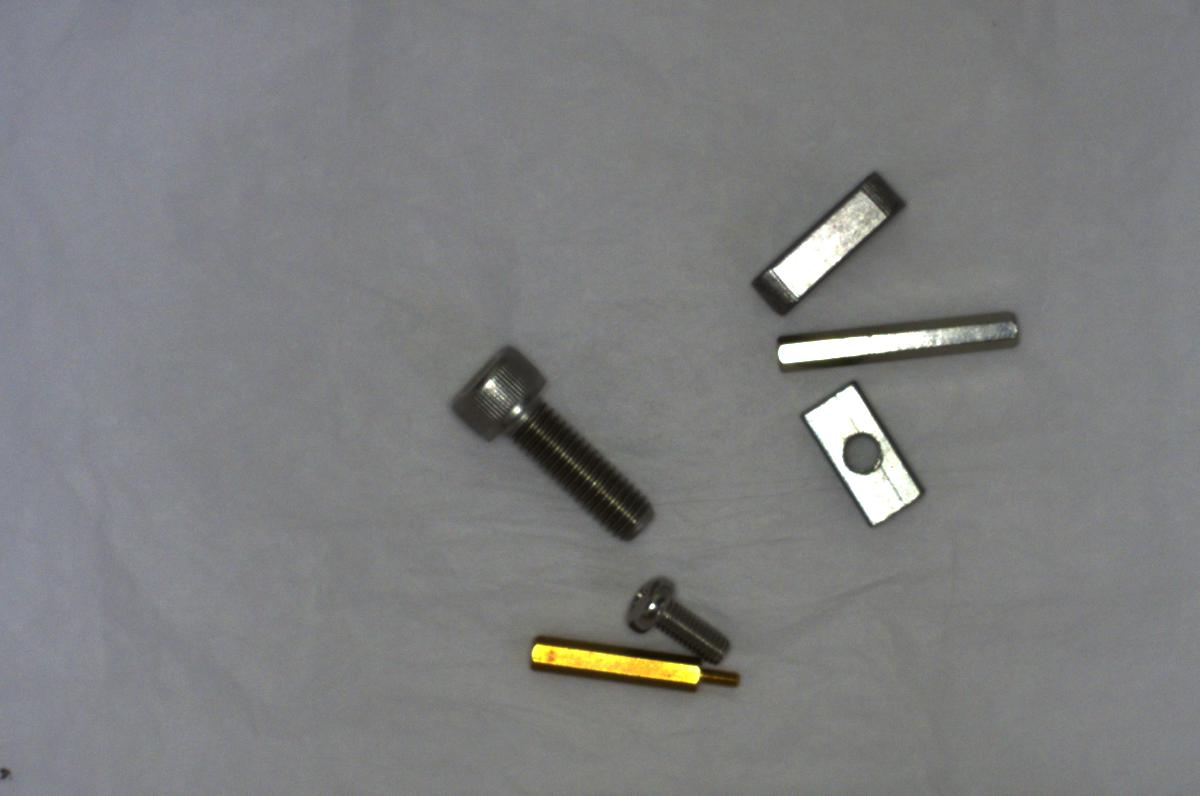Double hexagonal column: (770, 301, 1034, 378)
Hexagon pillar: (520, 624, 748, 698)
Hexagon screw: (434, 331, 661, 556)
Keybar: (743, 165, 920, 327)
Rectangular nut: (794, 373, 932, 539)
Round head screw: (611, 568, 741, 671)
